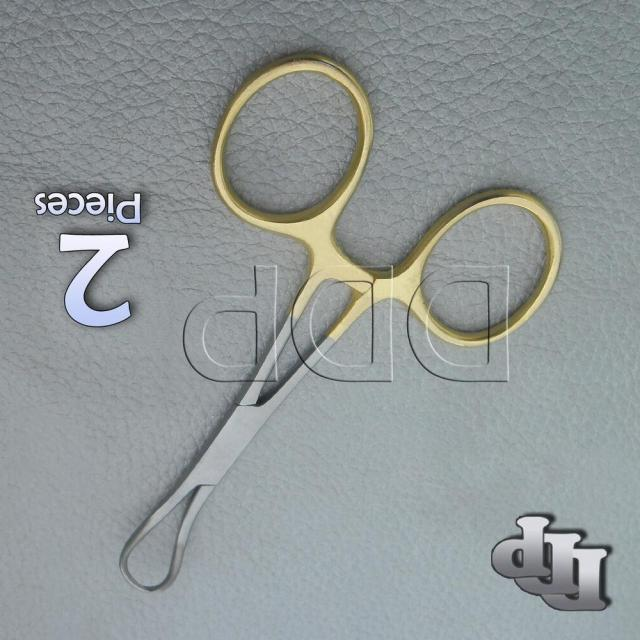Towel_clip: (112, 39, 570, 602)
